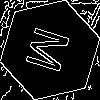M: (25, 25, 79, 78)
